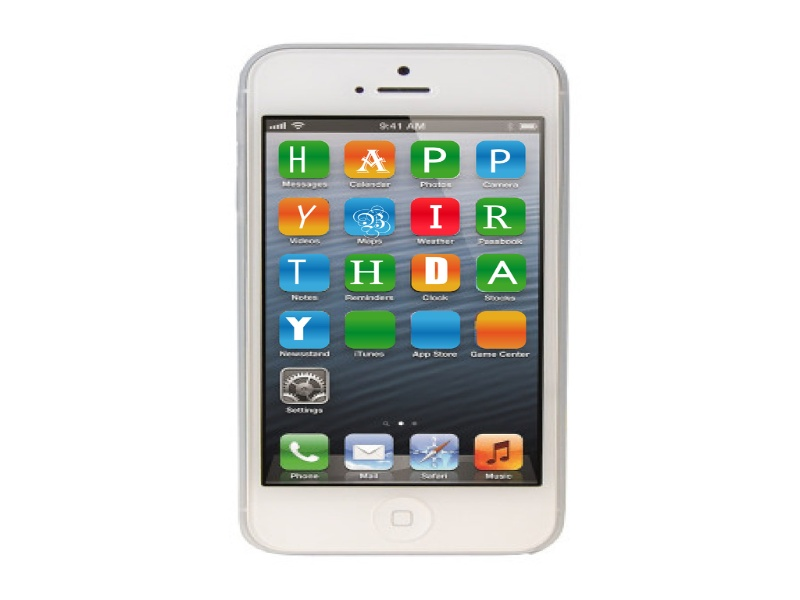cellphone: (224, 34, 585, 561)
